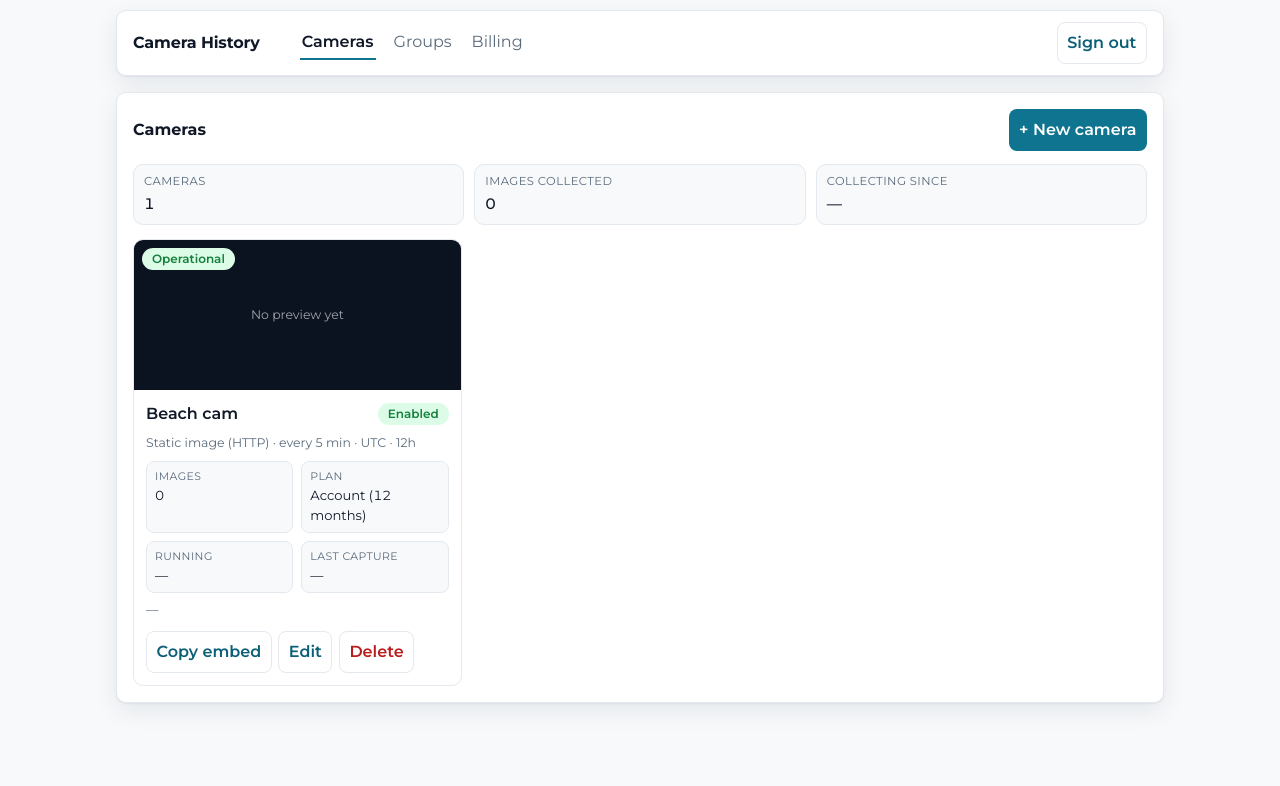
App camera CRUD › rejects out-of-range latitude without submitting
Expected: the heading "Beach cam" is shown, [146,402,238,426]
Click the button with test id "add-camera" at (1078, 130), box [1008,109,1147,151]
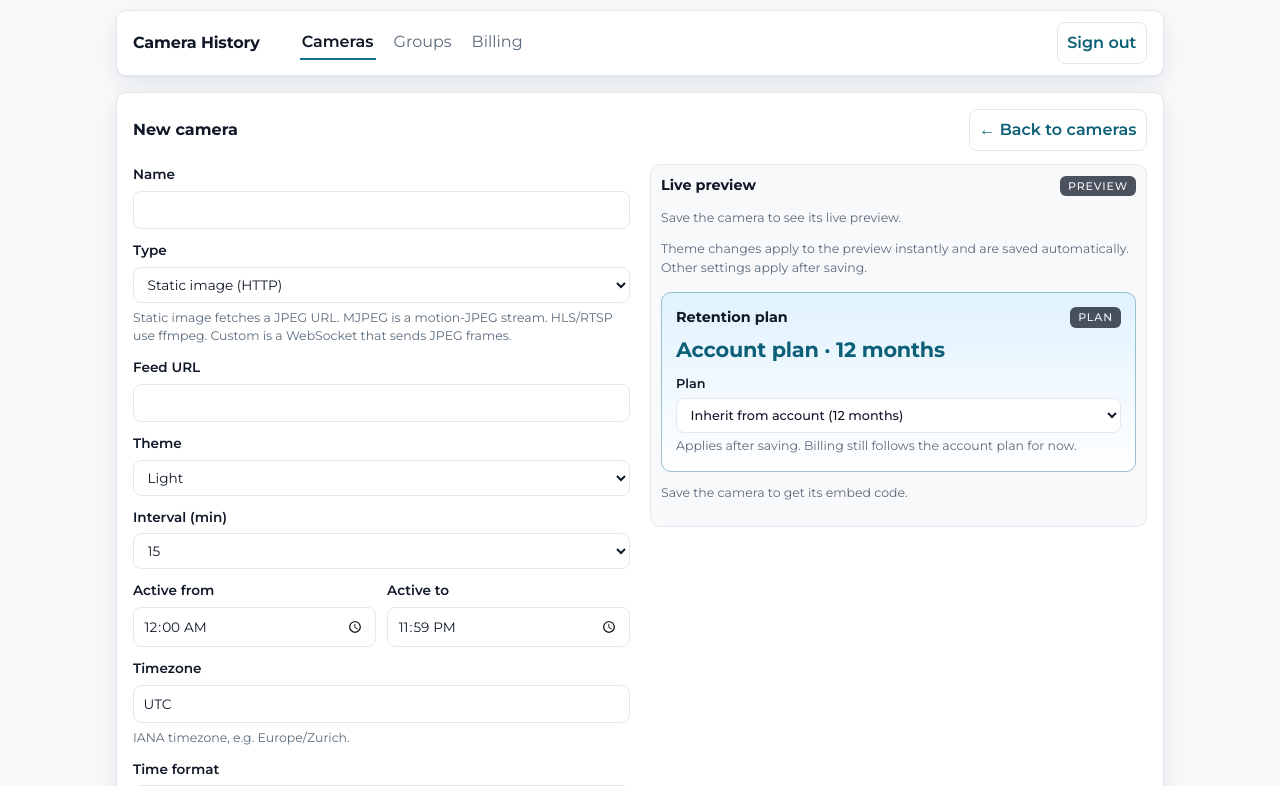
Type "New cam" into the field with test id "form-name" at (382, 210), box [133,191,630,229]
(page scrolled)
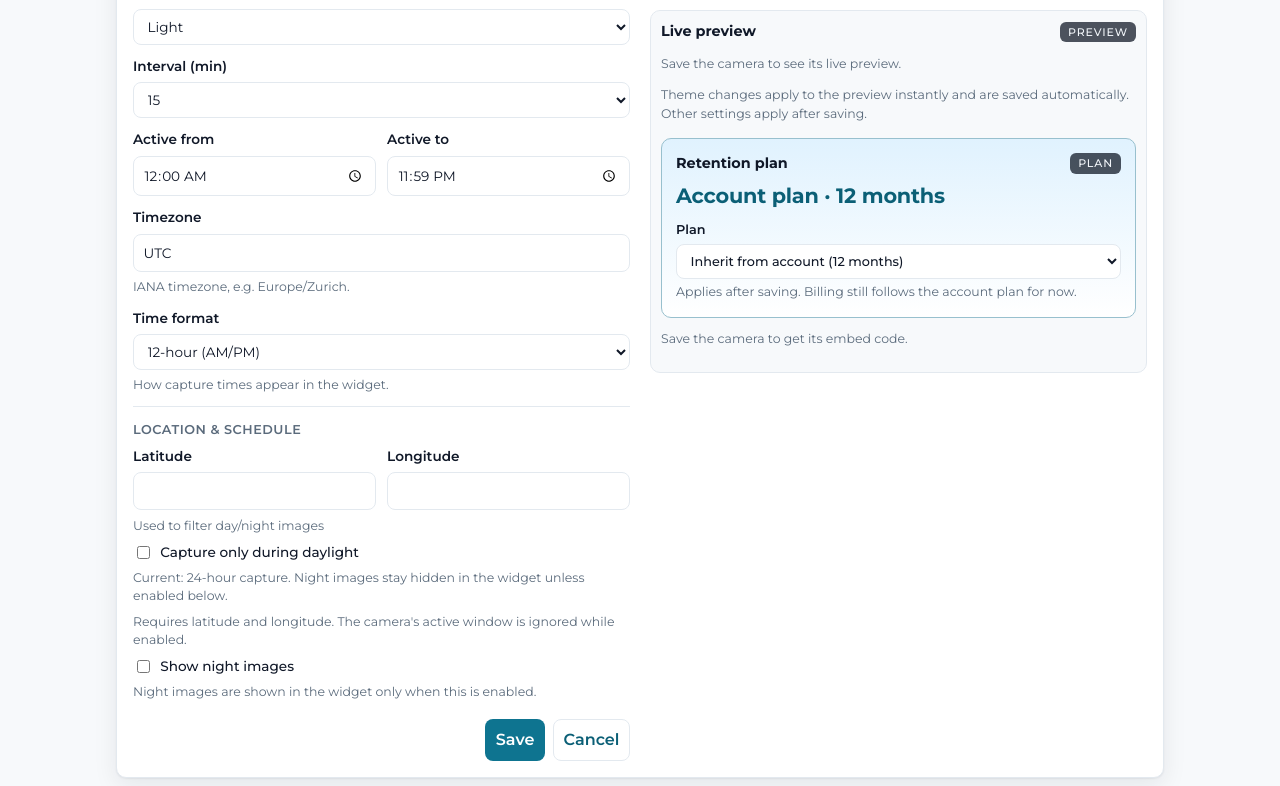
Type "120" into the number field with test id "form-latitude" at (254, 491), box [133,472,376,510]
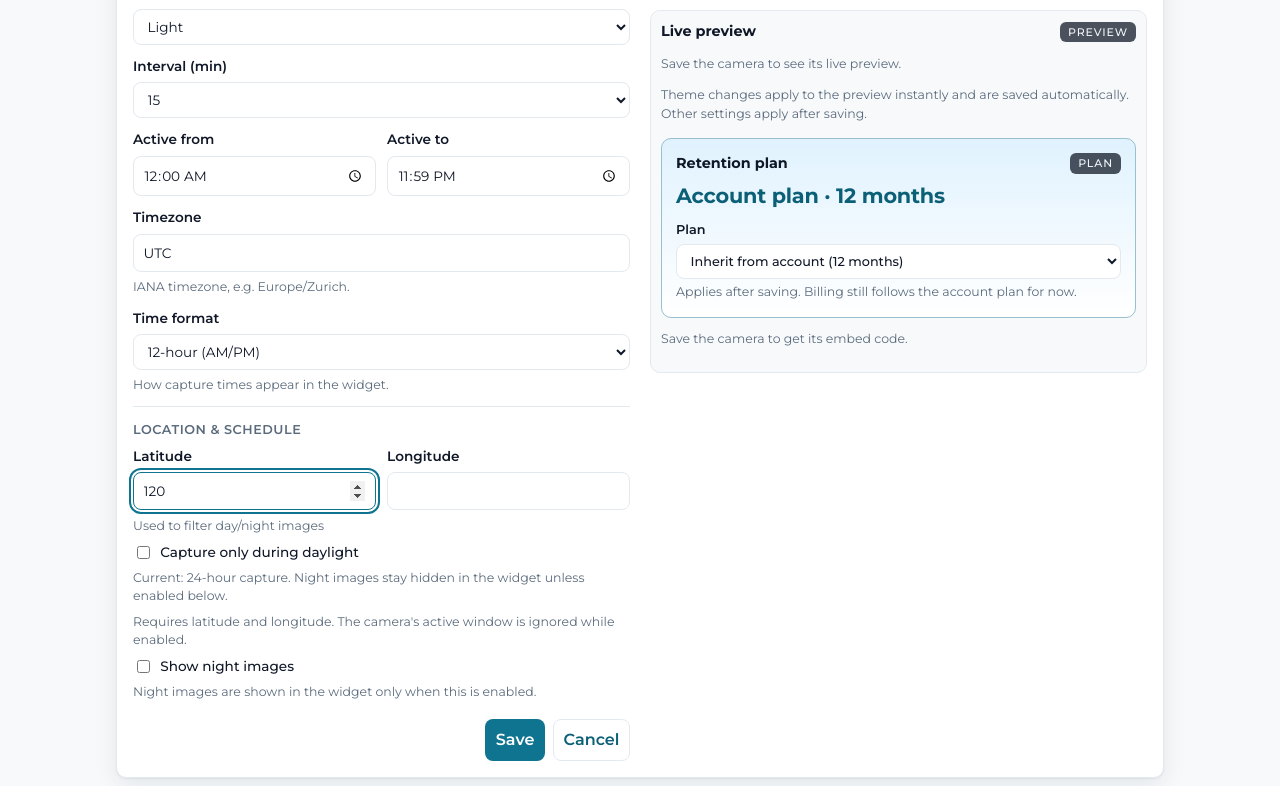
Click the button with test id "form-submit" at (515, 740), box [485,719,545,761]
(page scrolled)
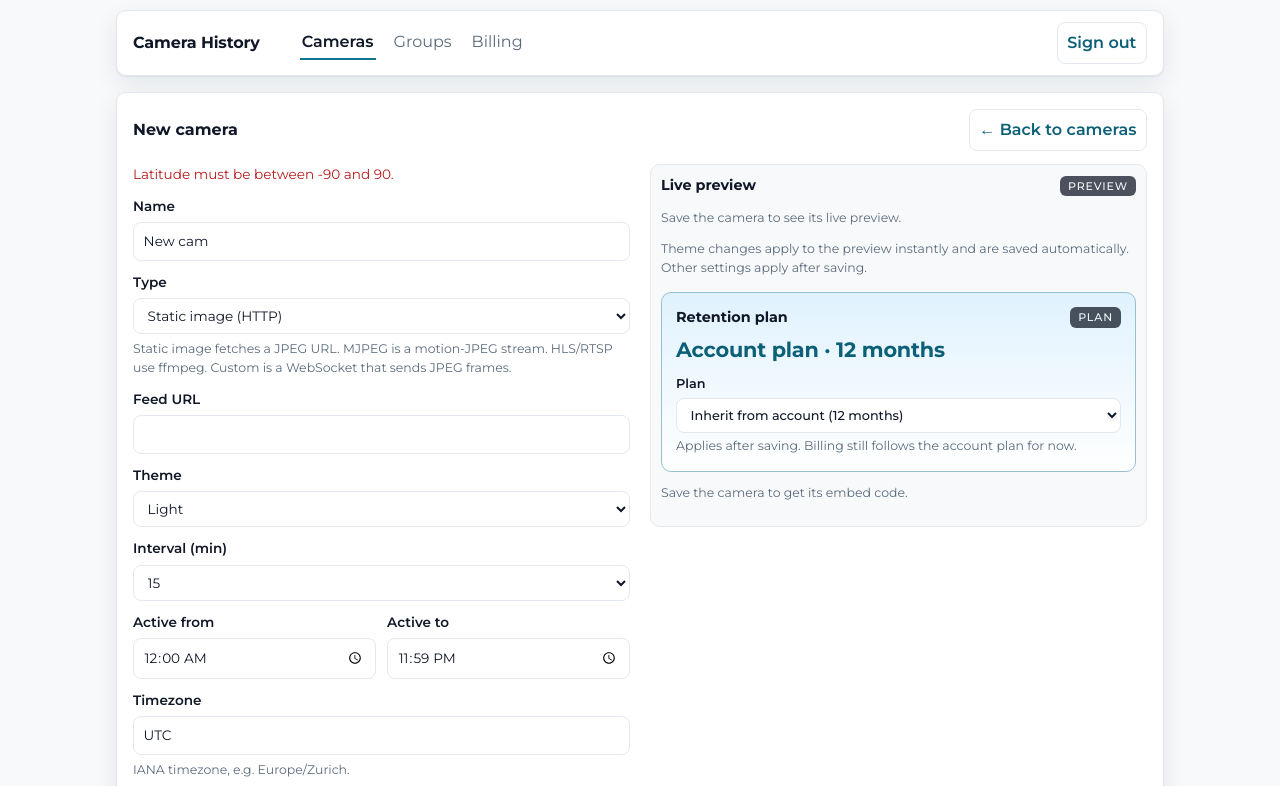
Expected: the text "Latitude must be between -90 and 90." is shown, [133,166,394,182]
